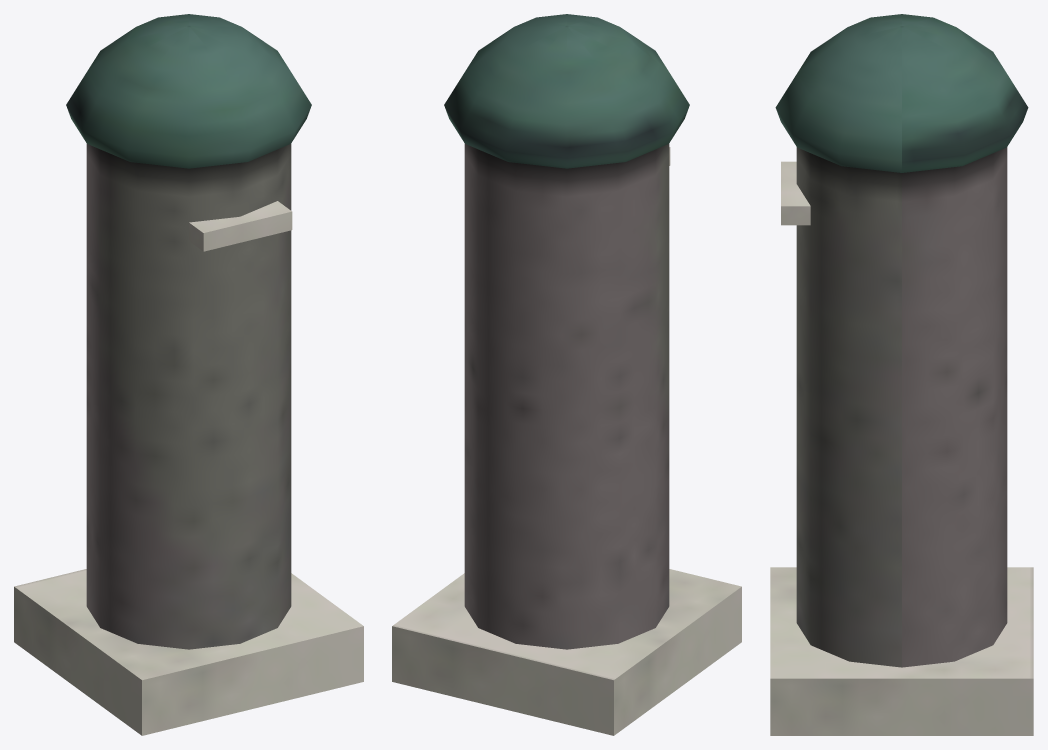
Rendered from post_box.fbx.
The picture shows the model from 3 angles, left to right: view 1: azimuth 30°, elevation 25°; view 2: azimuth 150°, elevation 25°; view 3: azimuth 270°, elevation 25°; orthographic projection. The views are drawn at different scales.
Visible parts, largest first — view 1: post_box; view 2: post_box; view 3: post_box.
Boxes of the visible parts, <box> form: post_box: <box>14,14,363,735</box>; post_box: <box>392,14,741,735</box>; post_box: <box>770,14,1033,735</box>.
Size of the model in its own units: 0.5 by 1.37 by 0.5.
